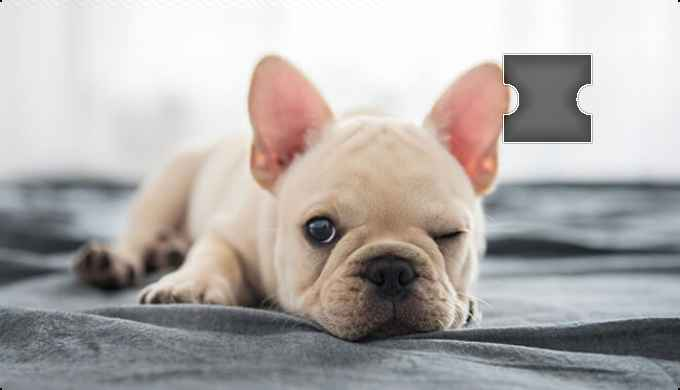gap: (503, 54, 594, 143)
